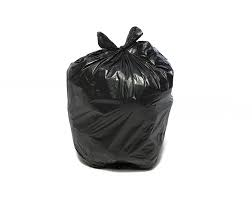Trash: (65, 31, 179, 177)
